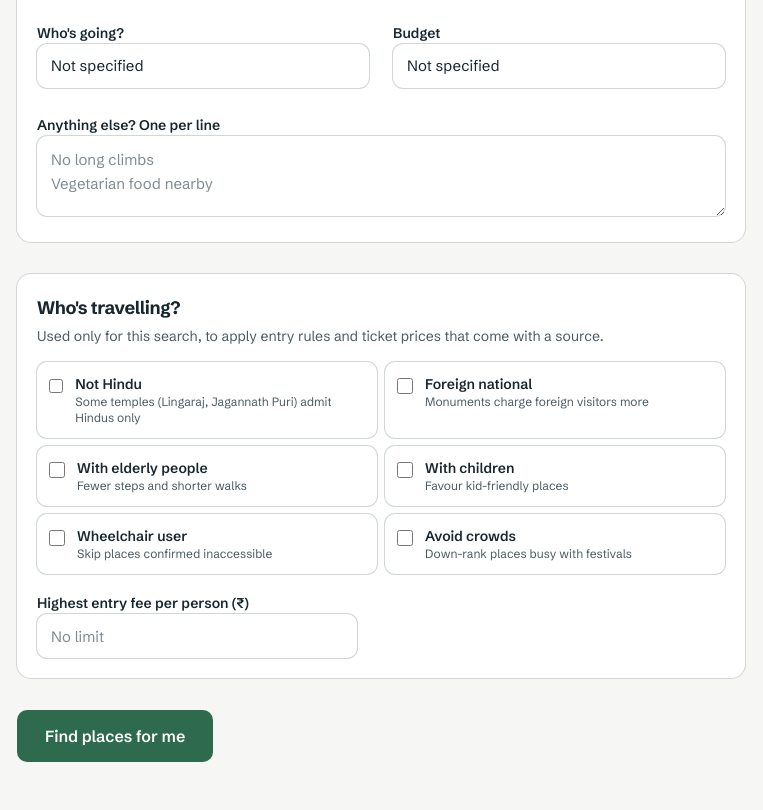
Test: ExplorePage › shows validation errors and does not navigate when location is missing
(page scrolled)
Click the button "Find places for me" at (115, 736), box [17,710,213,762]
(page scrolled)
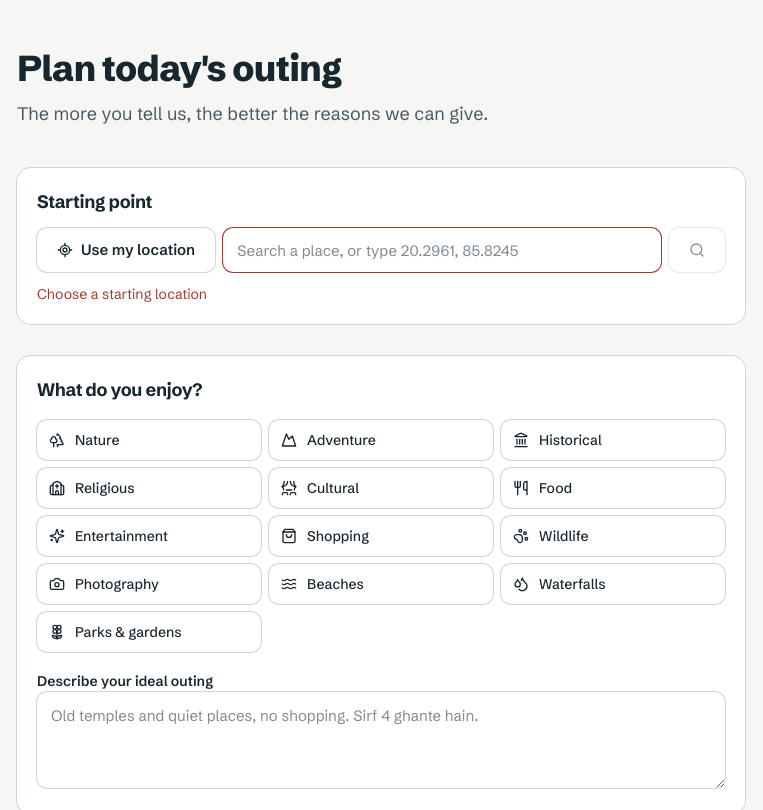
Expected: the text "Choose a starting location" is shown, [37,285,207,303]
